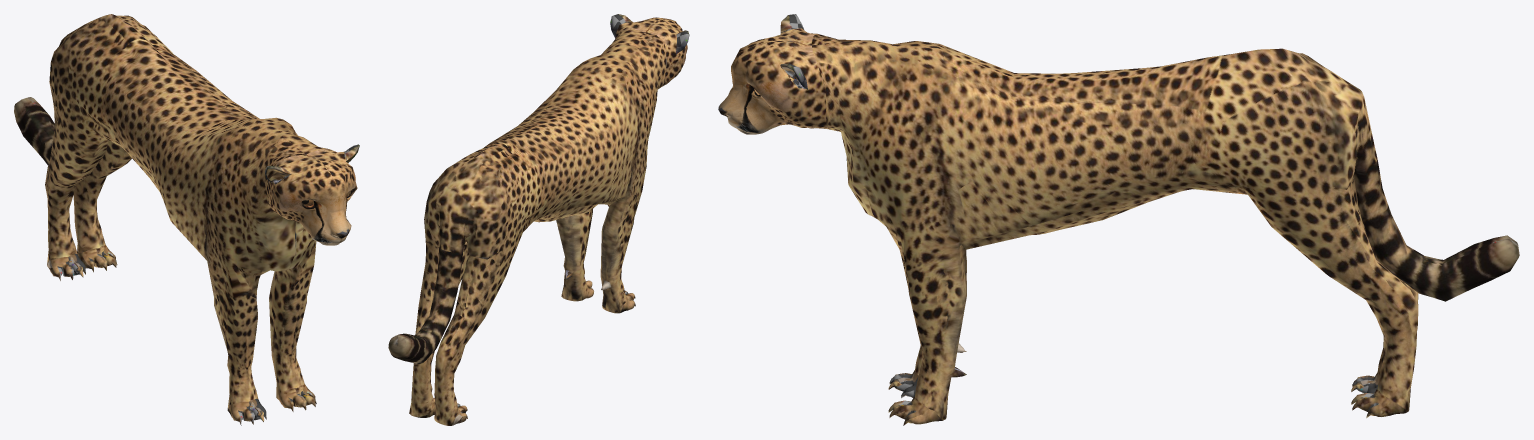
Rendered from Cheetah_Head_44_FinalModel.gltf.
3 views of the same model, side by side, from view 1: azimuth 30°, elevation 25°; view 2: azimuth 150°, elevation 25°; view 3: azimuth 270°, elevation 25° (orthographic). The views are drawn at different scales.
Parts seen in each view (by area): view 1: Circle; view 2: Circle; view 3: Circle.
Part boxes in pixels (box(x1,y1,x2,y2)): Circle: box(14, 14, 359, 425); Circle: box(388, 14, 689, 425); Circle: box(718, 14, 1519, 425).
Bounding box in the file's own units: 1.53 × 3.92 × 7.88.
3 materials, 1 textured.
